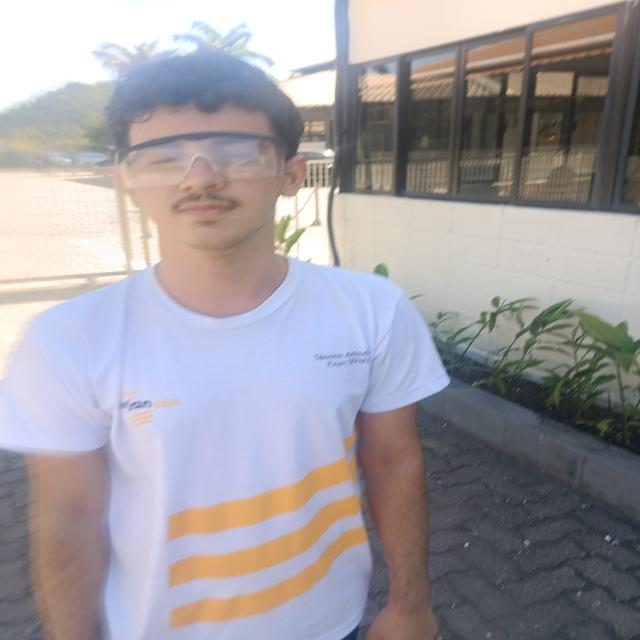oculos-epi: (117, 132, 285, 188)
